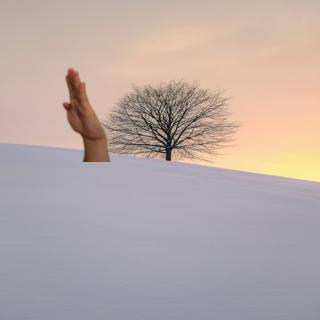RIGHT: (59, 66, 106, 143)
